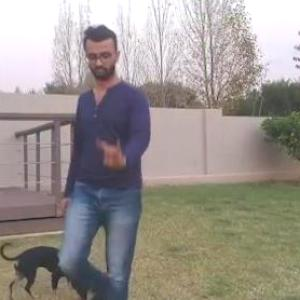takeoff-hand: (93, 132, 134, 170)
